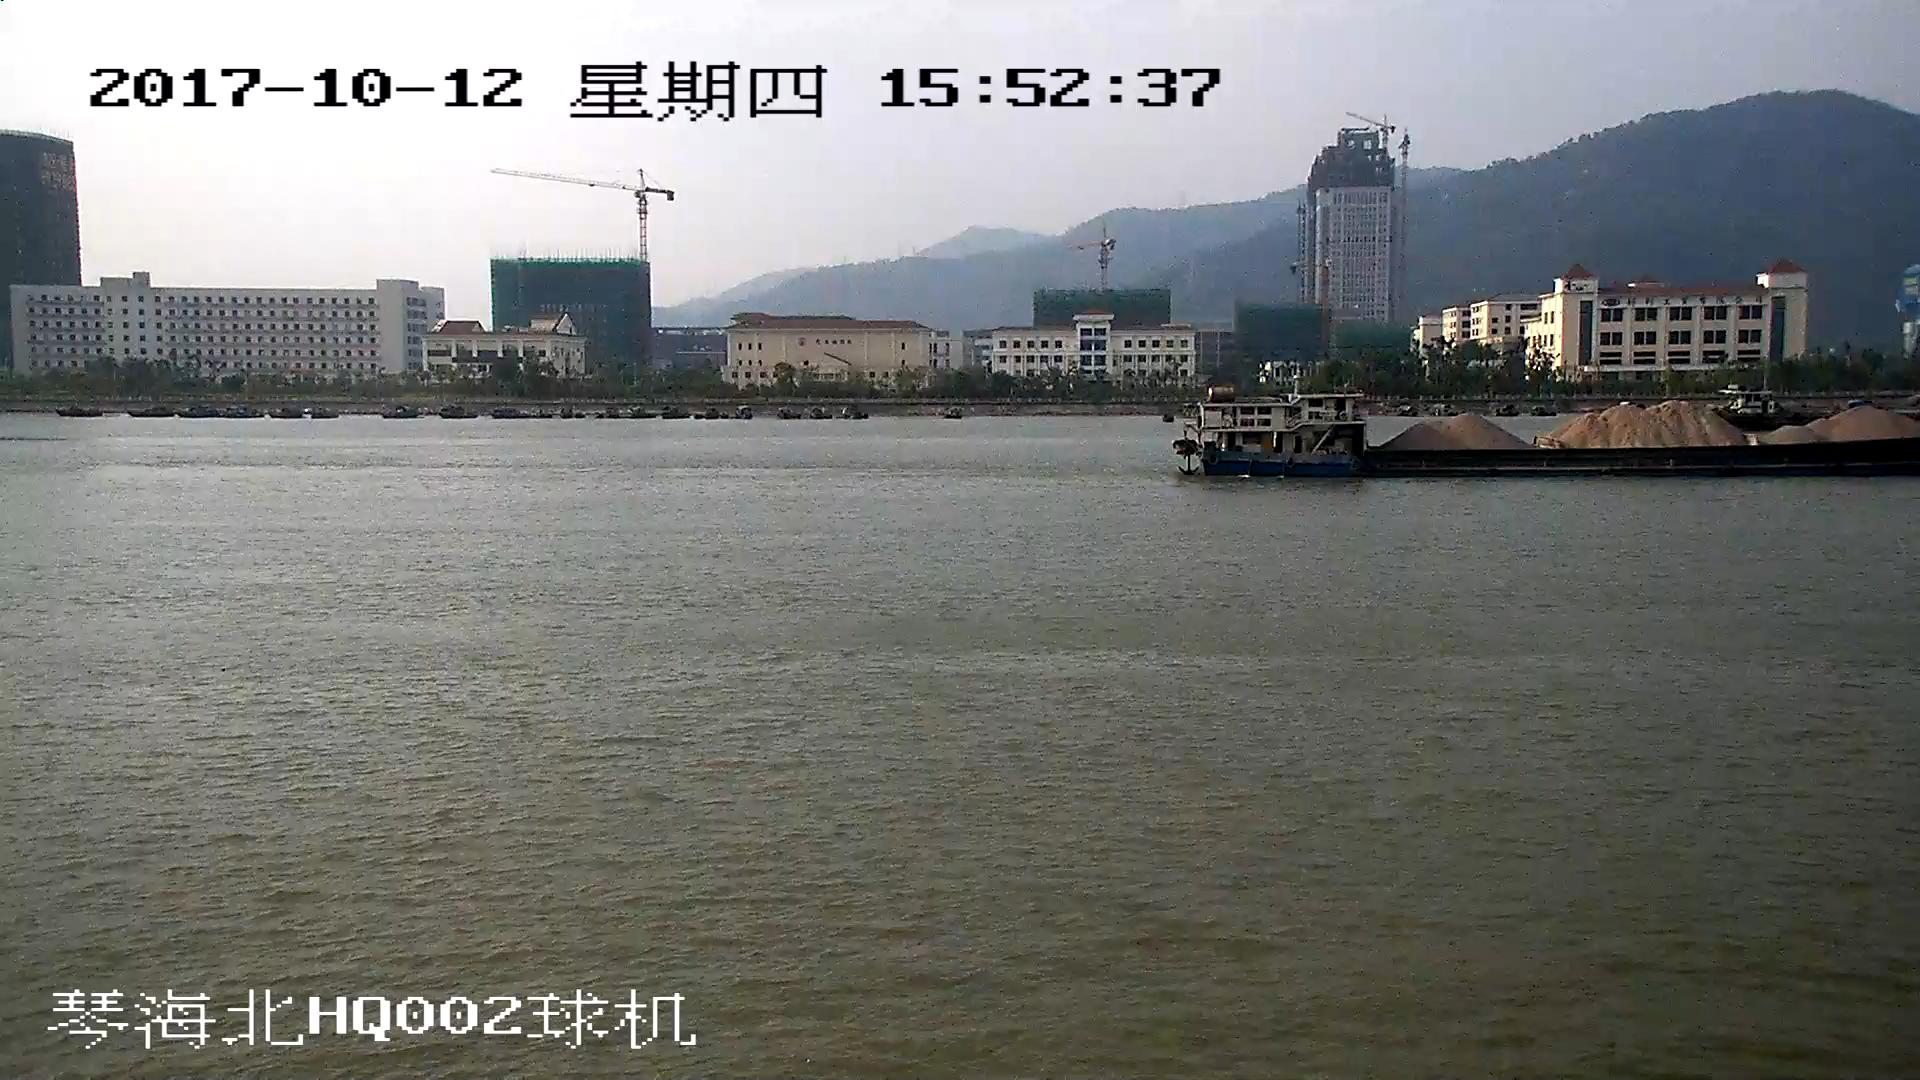ore carrier: (1179, 383, 1920, 479)
